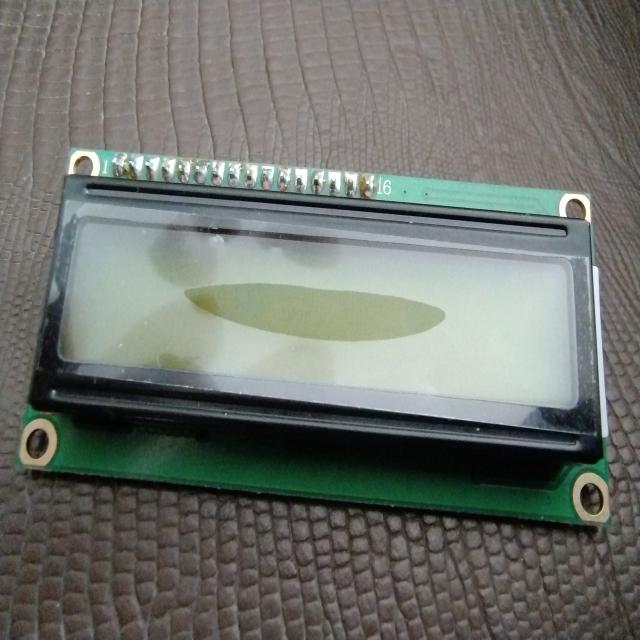lcd: (18, 145, 612, 528)
